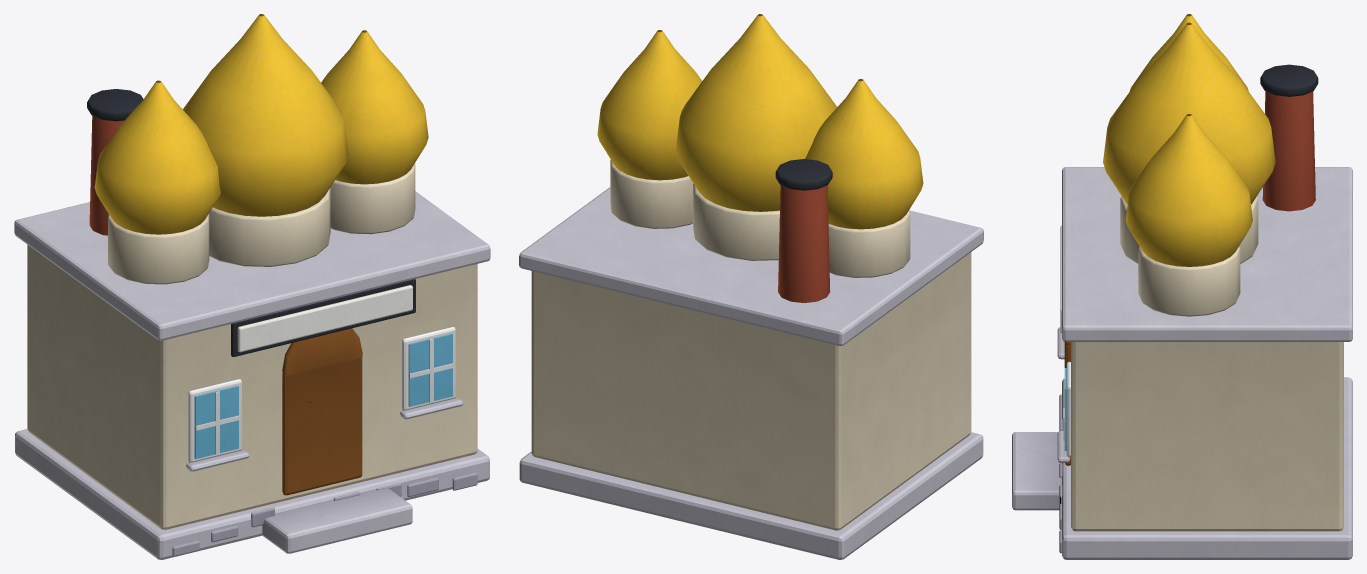
File: atelier4.glb
3 views of the same model, side by side, from view 1: azimuth 30°, elevation 25°; view 2: azimuth 150°, elevation 25°; view 3: azimuth 270°, elevation 25° (orthographic). The views are drawn at different scales.
Visible parts, largest first — view 1: appui__stone; view 2: appui__stone; view 3: appui__stone.
Boxes of the visible parts, x1,y1,x2,y2 form: appui__stone: [14, 14, 490, 559]; appui__stone: [519, 14, 983, 559]; appui__stone: [1012, 14, 1352, 559].
Size of the model in its own units: 4.2 by 5.55 by 3.75.
1 material, 1 textured.
